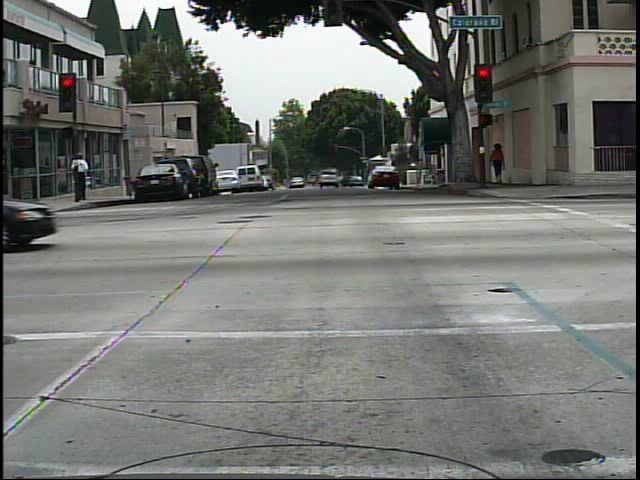person: (66, 147, 95, 209), (485, 137, 515, 191)
